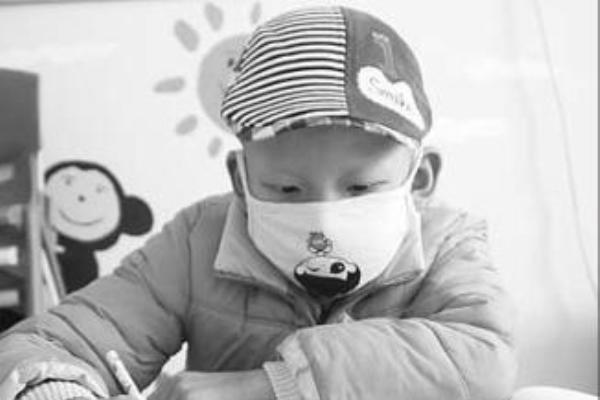OK: (249, 136, 407, 294)
